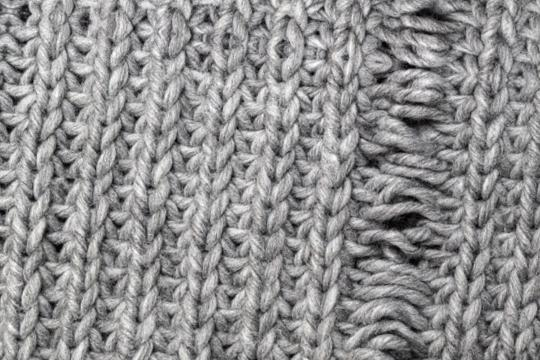slub: (343, 0, 469, 359)
